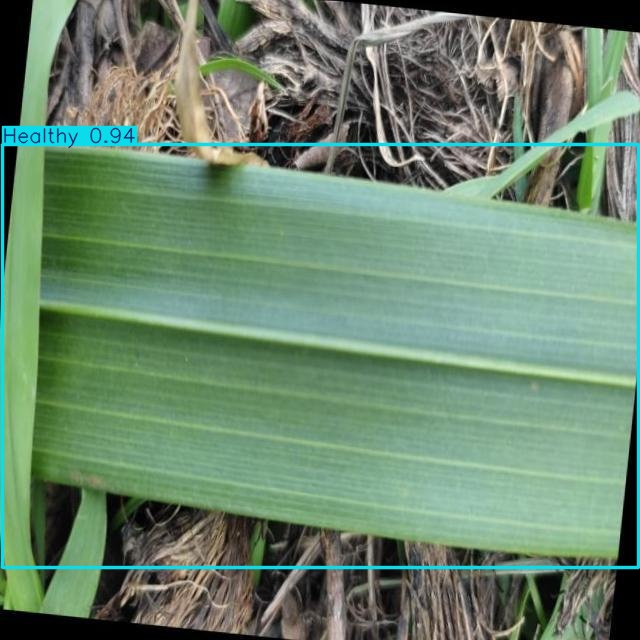Healthy: (3, 145, 638, 568)
